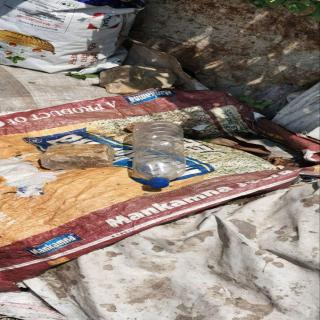Plastic-bottle: (128, 118, 191, 191)
